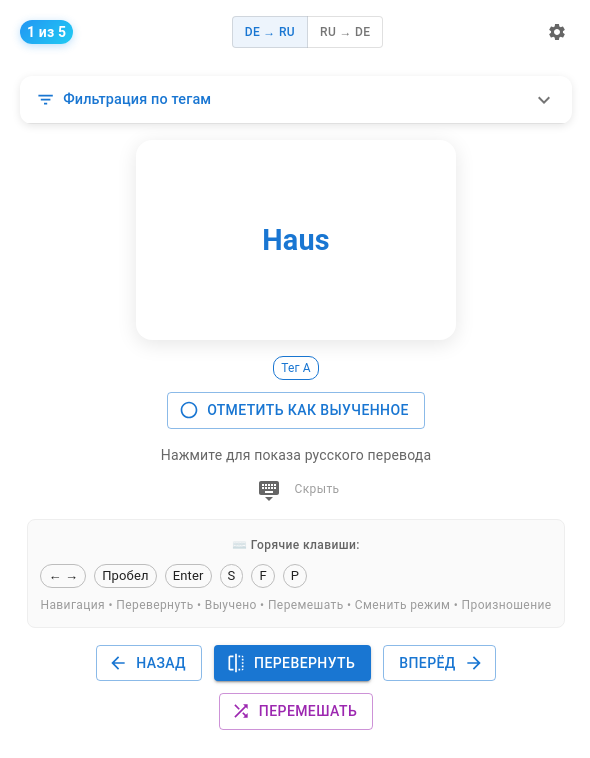
UniversalCardViewer learning session › repeat sends explicit target value
expect the text "1 из 5" is shown: met, box [27,24,66,40]
What coordinates should you click on to do the following:
click the button "Отметить как выученное"
I would click on:
 (296, 410)
Its box is [167,392,425,428].
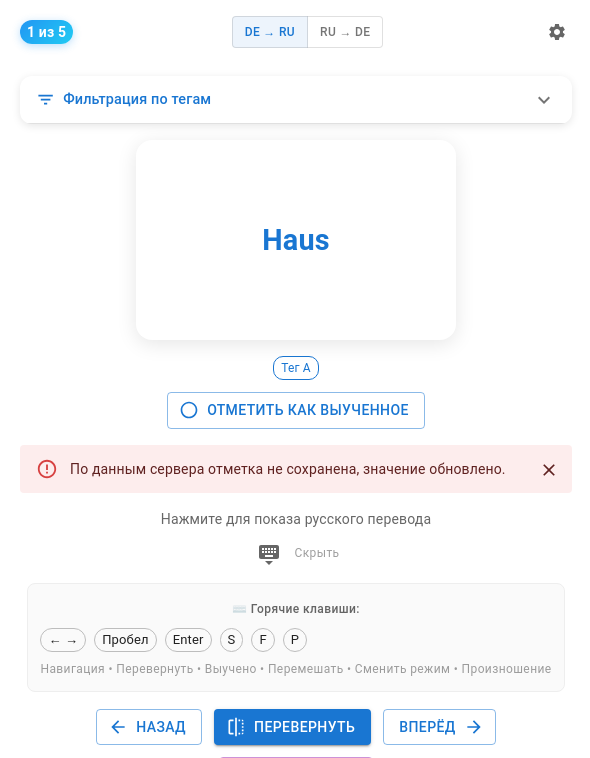
expect the message shows "не сохранена": met, box [70,460,506,476]
What coordinates should you click on to do the following:
click the button "Отметить как выученное"
I would click on:
 (296, 410)
Its box is [167,392,425,428].
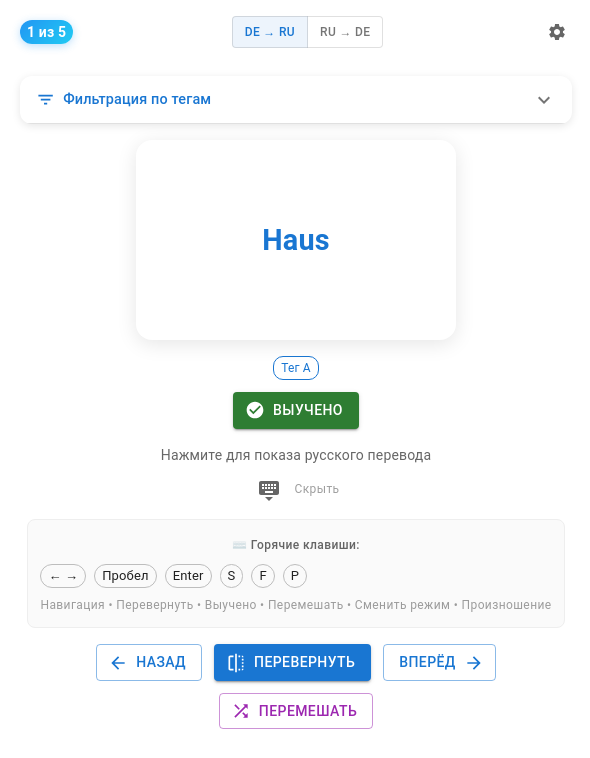
expect the text "1 из 5" is shown: met, box [27,24,66,40]
expect the button "Выучено" is shown: met, box [233,392,359,428]
